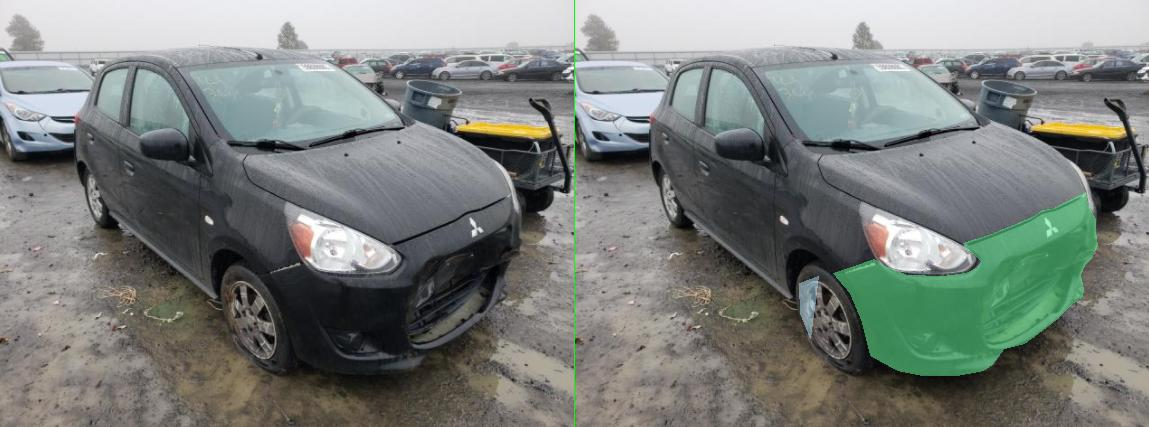Broken part: (516, 192, 1045, 375)
Corrosion: (448, 276, 486, 338)
Dent: (817, 224, 1041, 305)
Missing part: (815, 270, 997, 342)
